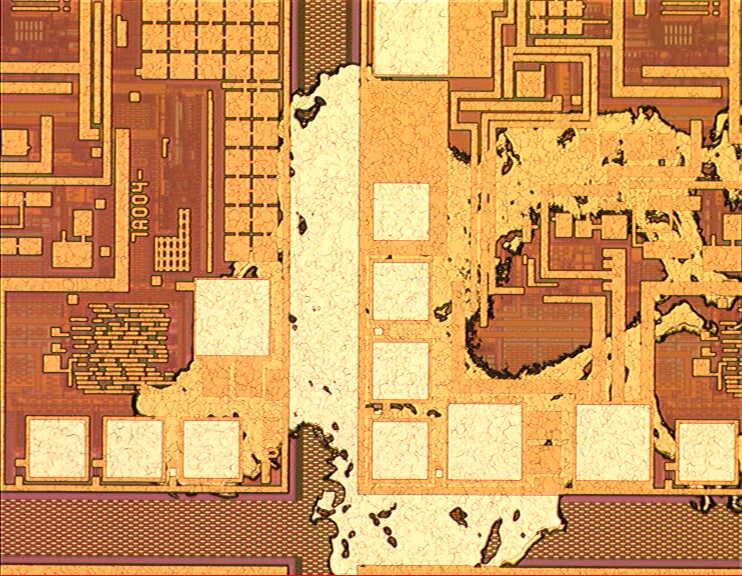BLOCK ETCH: (131, 59, 742, 576)
